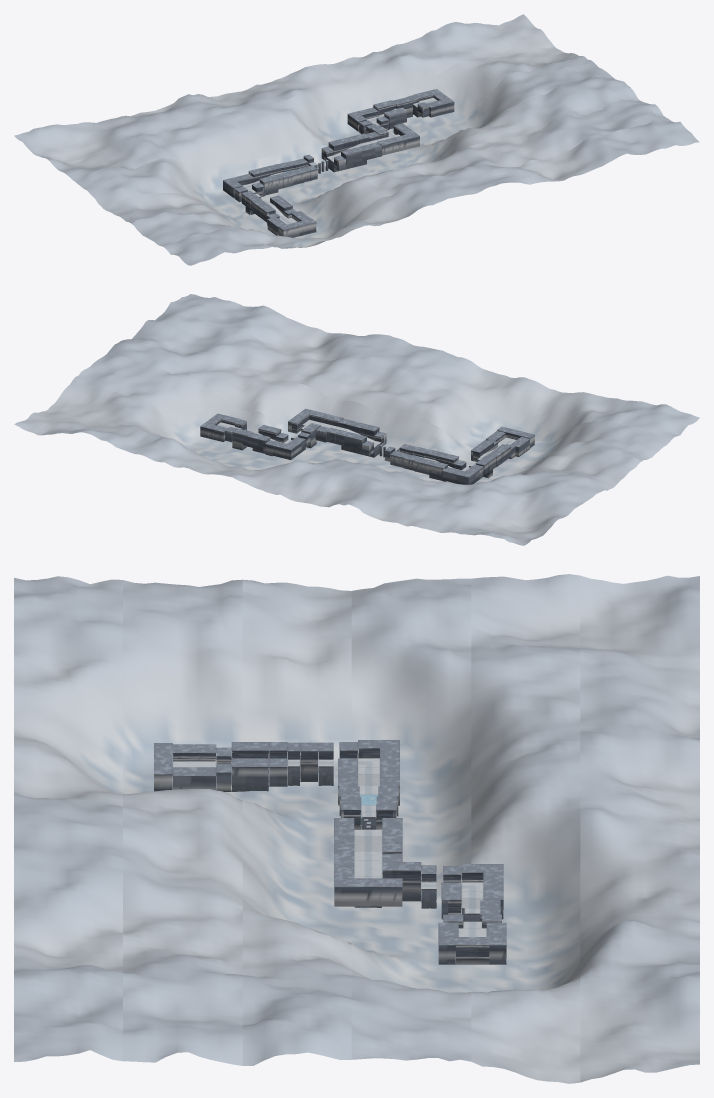
File: snowball_slope_terrain.glb
3 views of the same model, one above another, from view 1: azimuth 30°, elevation 25°; view 2: azimuth 150°, elevation 25°; view 3: azimuth 270°, elevation 25° (orthographic). The views are drawn at different scales.
Visible parts, largest first — view 1: backdrop_5, backdrop_4, backdrop_3, backdrop_1, backdrop_0, backdrop_2, terrain_I, terrain_F, terrain_D, terrain_H, terrain_A, terrain_E (+4 smaller); view 2: backdrop_0, backdrop_1, backdrop_5, backdrop_2, backdrop_3, backdrop_4, terrain_I, terrain_F, terrain_D, terrain_H, terrain_E, terrain_A (+4 smaller); view 3: backdrop_5, backdrop_1, backdrop_0, backdrop_4, backdrop_2, backdrop_3, terrain_H, terrain_I, terrain_B, terrain_A, terrain_J, terrain_D (+4 smaller).
Part boxes in pixels (x1,y1,x2,y2): backdrop_5: (14,14,553,163); backdrop_4: (45,46,580,179); backdrop_3: (73,56,612,209); backdrop_1: (132,100,671,248); backdrop_0: (162,119,699,265); backdrop_2: (104,77,640,229); terrain_I: (347,95,429,131); terrain_F: (321,133,381,172); terrain_D: (223,164,293,197); terrain_H: (359,116,419,151); terrain_A: (267,211,316,237); terrain_E: (278,154,328,185); backdrop_0: (163,294,699,441); backdrop_1: (132,312,671,469); backdrop_5: (14,411,553,545); backdrop_2: (104,338,640,487); backdrop_3: (73,356,612,504); backdrop_4: (45,380,581,528); terrain_I: (225,419,301,459); terrain_F: (326,418,386,457); terrain_D: (414,449,479,484); terrain_H: (275,408,326,451); terrain_E: (379,444,429,470); terrain_A: (486,426,534,458); backdrop_5: (580,575,699,1082); backdrop_1: (123,579,242,1065); backdrop_0: (14,576,122,1062); backdrop_4: (471,574,580,1083); backdrop_2: (242,579,351,1065); backdrop_3: (351,578,471,1061); terrain_H: (334,862,461,908); terrain_I: (441,864,503,928); terrain_B: (216,742,287,791); terrain_A: (154,743,216,791); terrain_J: (438,922,506,964); terrain_D: (338,740,399,805).
Bounding box in the file's own units: 735 × 63.83 × 441.
